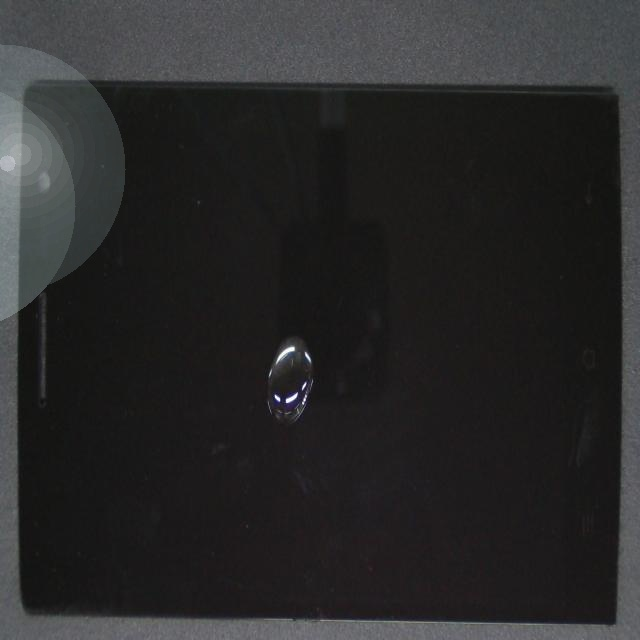oil: (177, 190, 468, 518)
